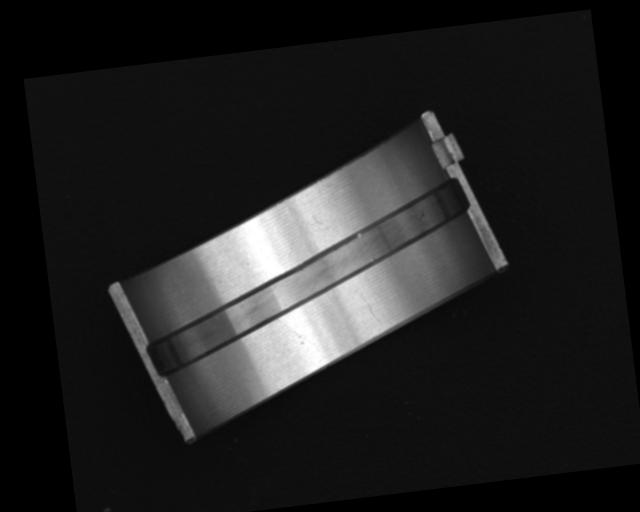gap: (129, 178, 485, 377)
nick: (360, 291, 381, 325)
